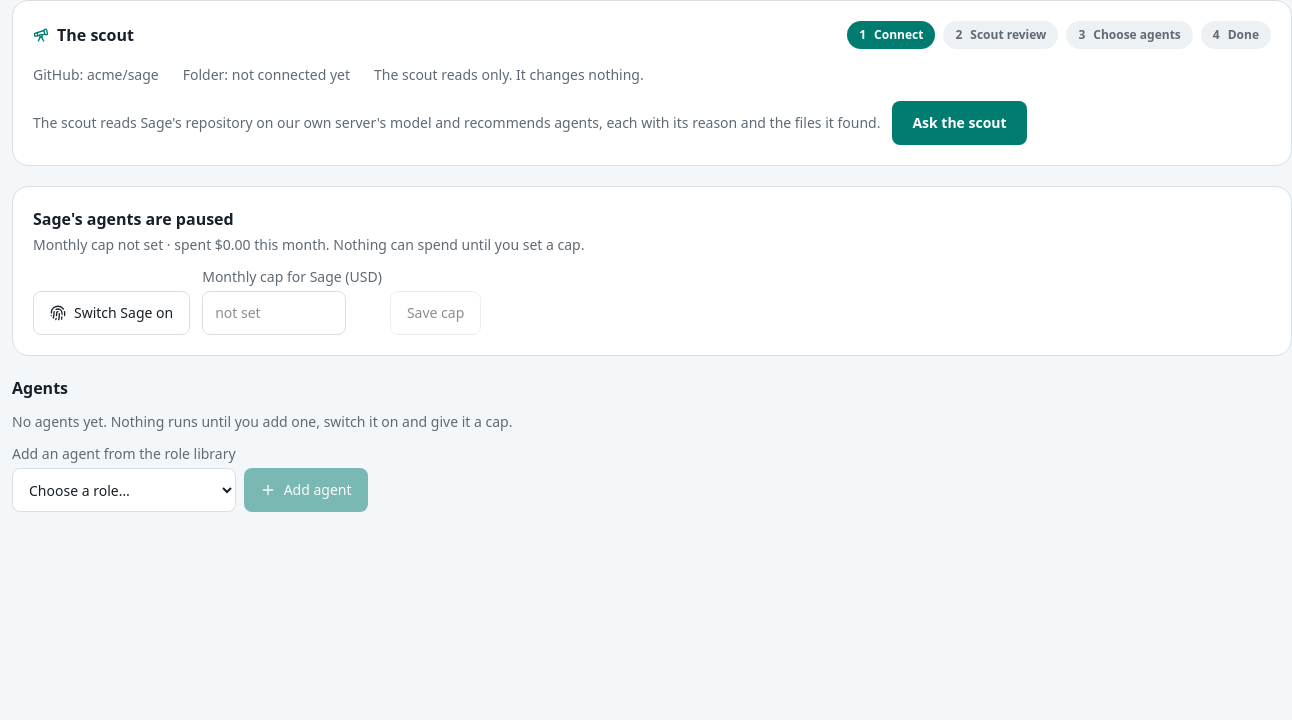
Scenario: the scout on the Agents tab › a refused ask says why
Click the button "Ask the scout" at (960, 123), box [892,101,1027,145]
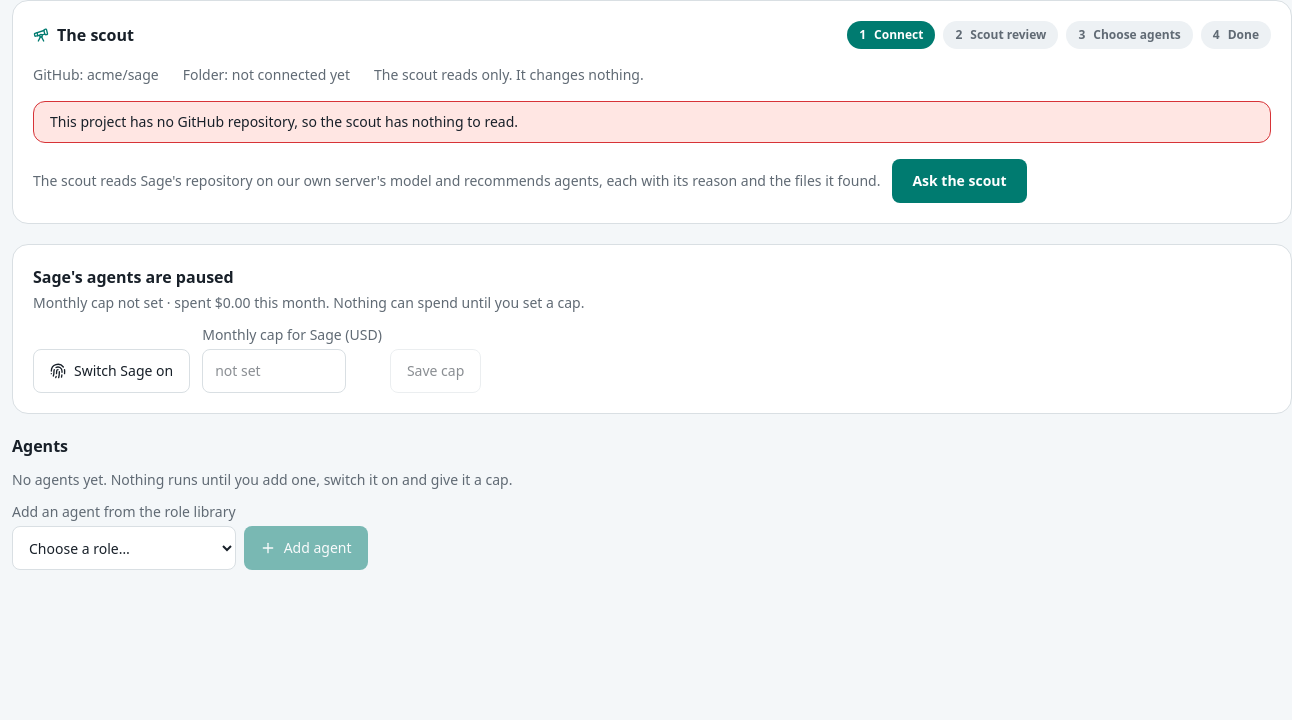
Now the text "This project has no GitHub repository, so the scout has nothing to read." is shown, box [33,101,1271,143]
